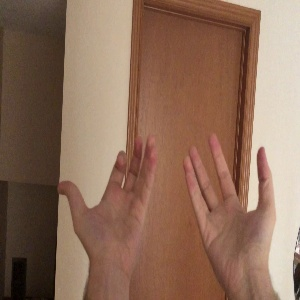hand: (58, 136, 156, 264), (183, 133, 275, 269)
